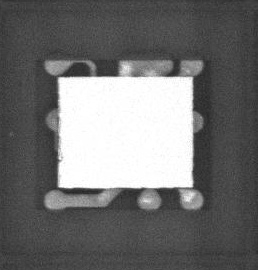DIE_INK: (57, 135, 64, 163)
